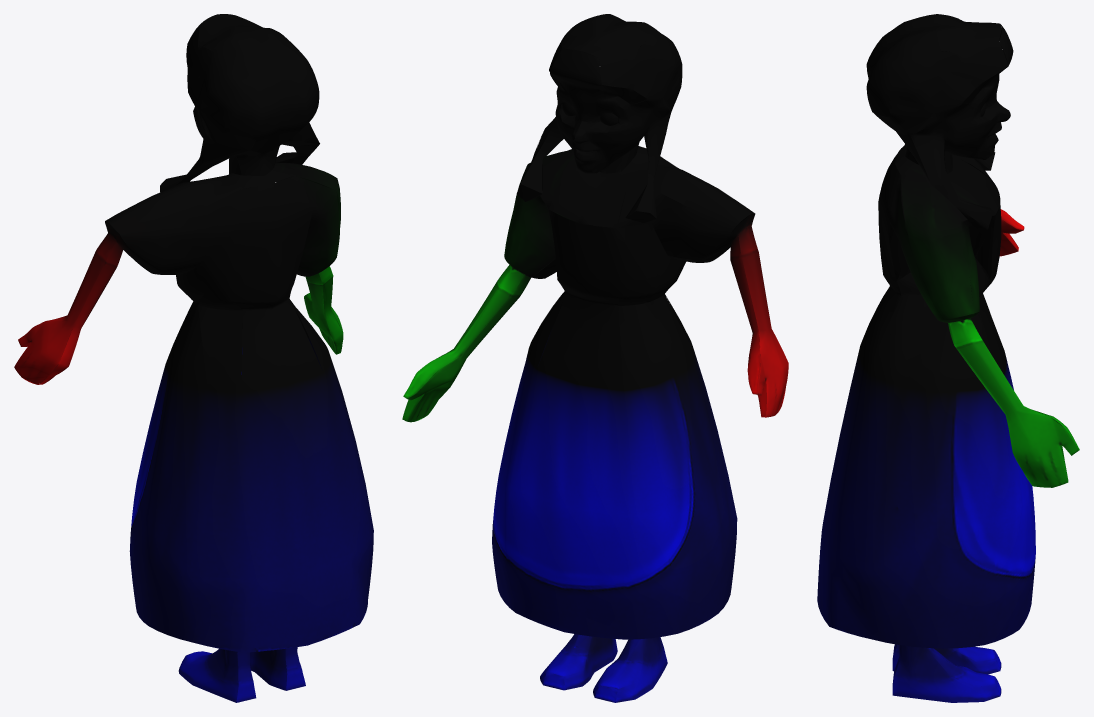
The model's file is sunniva.glb.
3 renders of one model, left to right at view 1: azimuth 30°, elevation 25°; view 2: azimuth 150°, elevation 25°; view 3: azimuth 270°, elevation 25°, orthographic.
Parts seen in each view (by area): view 1: sunniva; view 2: sunniva; view 3: sunniva.
Boxes of the visible parts, left/top/right/bottom form: sunniva: left=14, top=14, right=373, bottom=702; sunniva: left=402, top=14, right=788, bottom=702; sunniva: left=817, top=14, right=1079, bottom=702.
Bounding box in the file's own units: 0.8971 × 1.63 × 0.5926.
Materials: 1 (1 with a texture image).
